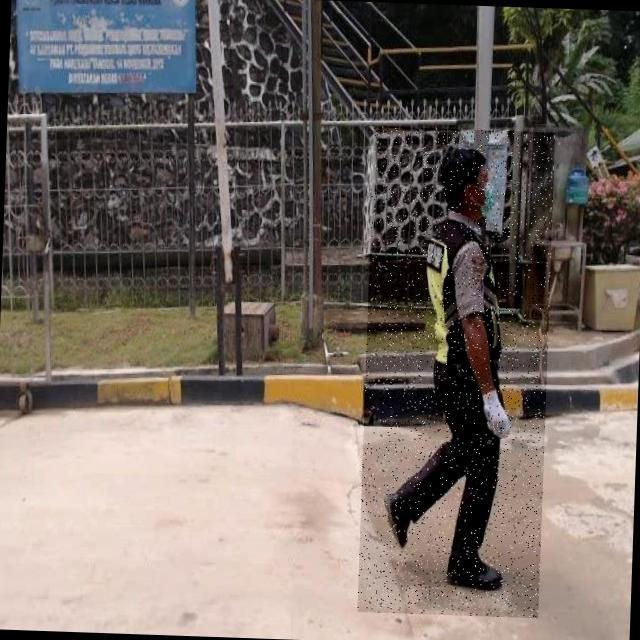Gloves: (475, 389, 520, 454)
Person: (348, 108, 564, 640)
Safety Boot: (443, 547, 505, 596), (381, 484, 416, 552)
Safety Vest: (424, 216, 508, 375)
no-helmet: (429, 139, 491, 176)
